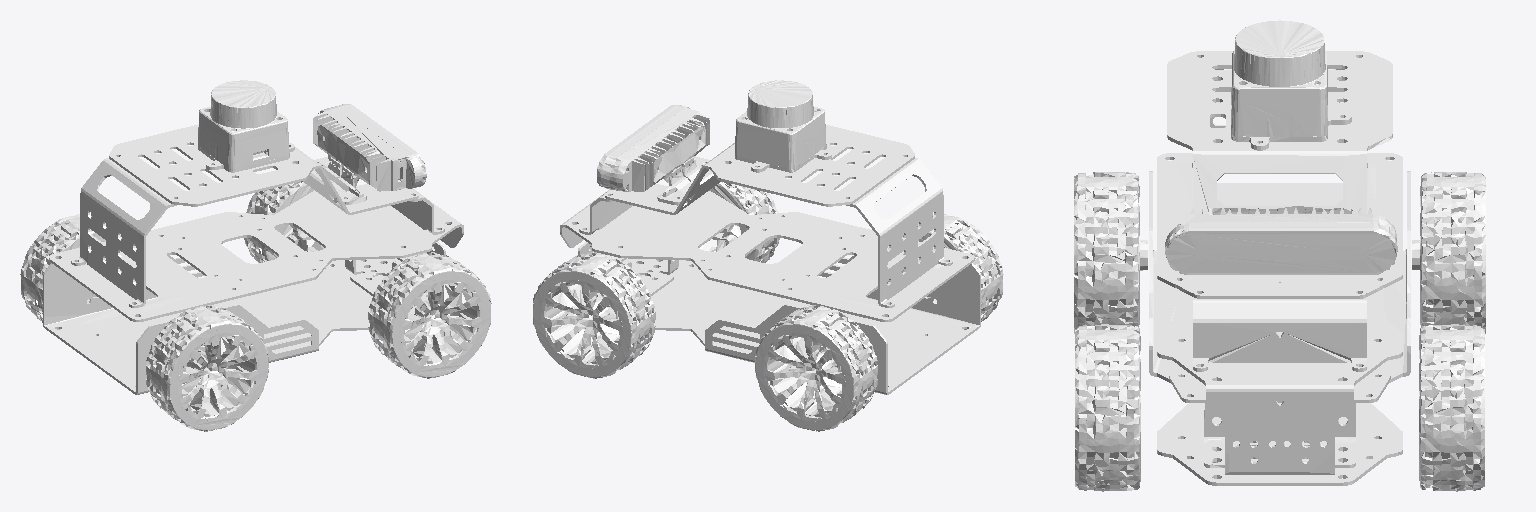
URDF robot description (mentorpi_ackermann):
<?xml version="1.0" ?>
<robot name="mentorpi_ackermann">
  <material name="black">
    <color rgba="0 0 0 1"/>
  </material>
  <link name="base_link">
    <inertial>
      <origin rpy="0 0 0" xyz="-0.00186669751054189 3.0253386351986E-05 -0.00605296088229322"/>
      <mass value="0.0961047465616957"/>
      <inertia ixx="8.55867486364231E-05" ixy="3.41346959938296E-08" ixz="1.64755227278164E-05" iyy="0.000277248181555496" iyz="-2.95282759133104E-08" izz="0.000344246448853775"/>
    </inertial>
    <visual>
      <origin rpy="0 0 0" xyz="0 0 0"/>
      <geometry>
        <mesh filename="meshes/acker/base_link.stl"/>
      </geometry>
      <material name="">
        <color rgba="1 1 1 1"/>
      </material>
    </visual>
    <collision>
      <origin rpy="0 0 0" xyz="0 0 0"/>
      <geometry>
        <mesh filename="meshes/acker/base_link.stl"/>
      </geometry>
    </collision>
  </link>
  <link name="base_footprint"/>
  <joint name="base_footprint_to_base_link" type="fixed">
    <parent link="base_footprint"/>
    <child link="base_link"/>
    <origin xyz="0 0 0.07" rpy="0 0 0"/>
  </joint>
  <link name="wheel_lf_Link">
    <inertial>
      <origin rpy="0 0 0" xyz="1.65897579444685E-06 -0.00270913022688685 -1.5546673051009E-06"/>
      <mass value="0.0252873083503169"/>
      <inertia ixx="1.00371783485335E-05" ixy="4.93900109379125E-11" ixz="7.42104604492639E-10" iyy="1.67620175120314E-05" iyz="-5.47583950457701E-11" izz="1.00370342405297E-05"/>
    </inertial>
    <visual>
      <origin rpy="0 0 0" xyz="0 0 0"/>
      <geometry>
        <mesh filename="meshes/acker/wheel_lf_Link.stl"/>
      </geometry>
      <material name="">
        <color rgba="1 1 1 1"/>
      </material>
    </visual>
    <collision>
      <origin rpy="0 0 0" xyz="0 0 0"/>
      <geometry>
        <mesh filename="meshes/acker/wheel_lf_Link.stl"/>
      </geometry>
    </collision>
  </link>
  <joint name="wheel_lf_Joint" type="continuous">
    <origin rpy="0 0 0" xyz="0.06679 0.069739 -0.0288"/>
    <parent link="base_link"/>
    <child link="wheel_lf_Link"/>
    <axis xyz="-2.2918E-05 1 1.9551E-05"/>
  </joint>
  <link name="wheel_rf_Link">
    <inertial>
      <origin rpy="0 0 0" xyz="-1.48986965733955E-06 0.0027090575018239 1.16299057125596E-06"/>
      <mass value="0.0252873548617242"/>
      <inertia ixx="1.00360241846408E-05" ixy="-5.83065201444192E-11" ixz="-8.3023958781985E-11" iyy="1.67622954977732E-05" iyz="6.31638512668579E-11" izz="1.00384960556047E-05"/>
    </inertial>
    <visual>
      <origin rpy="0 0 0" xyz="0 0 0"/>
      <geometry>
        <mesh filename="meshes/acker/wheel_rf_Link.stl"/>
      </geometry>
      <material name="">
        <color rgba="1 1 1 1"/>
      </material>
    </visual>
    <collision>
      <origin rpy="0 0 0" xyz="0 0 0"/>
      <geometry>
        <mesh filename="meshes/acker/wheel_rf_Link.stl"/>
      </geometry>
    </collision>
  </link>
  <joint name="wheel_rf_Joint" type="continuous">
    <origin rpy="0 0 0" xyz="0.066794 -0.069739 -0.028803"/>
    <parent link="base_link"/>
    <child link="wheel_rf_Link"/>
    <axis xyz="-2.2918E-05 1 1.9551E-05"/>
  </joint>
  <link name="wheel_lb_Link">
    <inertial>
      <origin rpy="0 0 0" xyz="1.62806317080544E-06 -0.00317716794378092 -1.54238045318306E-06"/>
      <mass value="0.0271078161230754"/>
      <inertia ixx="1.01056035703468E-05" ixy="4.60479373806495E-11" ixz="7.43896782806142E-10" iyy="1.67990600599721E-05" iyz="-5.763890541079E-11" izz="1.01072652738793E-05"/>
    </inertial>
    <visual>
      <origin rpy="0 0 0" xyz="0 0 0"/>
      <geometry>
        <mesh filename="meshes/acker/wheel_lb_Link.stl"/>
      </geometry>
      <material name="">
        <color rgba="1 1 1 1"/>
      </material>
    </visual>
    <collision>
      <origin rpy="0 0 0" xyz="0 0 0"/>
      <geometry>
        <mesh filename="meshes/acker/wheel_lb_Link.stl"/>
      </geometry>
    </collision>
  </link>
  <joint name="wheel_lb_Joint" type="continuous">
    <origin rpy="0 0 0" xyz="-0.070313 0.07014 -0.027793"/>
    <parent link="base_link"/>
    <child link="wheel_lb_Link"/>
    <axis xyz="-2.2787E-05 1 1.9439E-05"/>
  </joint>
  <link name="wheel_rb_Link">
    <inertial>
      <origin rpy="0 0 0" xyz="-1.50804700475154E-06 0.00317707027691583 1.18963606317302E-06"/>
      <mass value="0.0271078005024283"/>
      <inertia ixx="1.01044417409685E-05" ixy="-5.83069005452564E-11" ixz="-7.56886841840775E-11" iyy="1.67993271276785E-05" iyz="6.31638424138502E-11" izz="1.01087182681654E-05"/>
    </inertial>
    <visual>
      <origin rpy="0 0 0" xyz="0 0 0"/>
      <geometry>
        <mesh filename="meshes/acker/wheel_rb_Link.stl"/>
      </geometry>
      <material name="">
        <color rgba="1 1 1 1"/>
      </material>
    </visual>
    <collision>
      <origin rpy="0 0 0" xyz="0 0 0"/>
      <geometry>
        <mesh filename="meshes/acker/wheel_rb_Link.stl"/>
      </geometry>
          </collision>
  </link>
  <joint name="wheel_rb_Joint" type="continuous">
    <origin rpy="0 0 0" xyz="-0.07031 -0.07014 -0.027796"/>
    <parent link="base_link"/>
    <child link="wheel_rb_Link"/>
    <axis xyz="-2.2787E-05 1 1.9439E-05"/>
  </joint>
  <link name="depth_cam">
    <inertial>
      <origin rpy="0 0 0" xyz="0.0023402290651429 0.00113784597946548 -0.0102127064032341"/>
      <mass value="0.0270474748429678"/>
      <inertia ixx="1.43718505822118E-05" ixy="1.24779382573379E-07" ixz="1.29836477956744E-08" iyy="1.65912768209848E-06" iyz="2.28291478579102E-08" izz="1.45615925510082E-05"/>
    </inertial>
    <visual>
      <origin rpy="0 0 0" xyz="0 0 0"/>
      <geometry>
        <mesh filename="meshes/acker/cam_Link.stl"/>
      </geometry>
      <material name="">
        <color rgba="1 1 1 1"/>
      </material>
    </visual>
    <collision>
      <origin rpy="0 0 0" xyz="0 0 0"/>
      <geometry>
        <mesh filename="meshes/acker/cam_Link.stl"/>
      </geometry>
    </collision>
  </link>
  <joint name="cam_Joint" type="fixed">
    <origin rpy="0 0 0" xyz="0.064015 -0.00013463 0.051155"/>
    <parent link="base_link"/>
    <child link="depth_cam"/>
    <axis xyz="0 0 0"/>
  </joint>
  <link name="lidar_frame">
    <inertial>
      <origin rpy="0 0 0" xyz="8.65086433231368E-05 9.02624784523964E-05 -0.0183546134614858"/>
      <mass value="0.0405423044068563"/>
      <inertia ixx="4.98470776877503E-06" ixy="-1.54076264166869E-07" ixz="2.05182706824286E-09" iyy="5.03926730822203E-06" iyz="1.1006285118993E-08" izz="8.25645669548359E-06"/>
    </inertial>
    <visual>
      <origin rpy="0 0 0" xyz="0 0 0"/>
      <geometry>
        <mesh filename="meshes/acker/lidar_Link.stl"/>
      </geometry>
      <material name="">
        <color rgba="1 1 1 1"/>
      </material>
    </visual>
    <collision>
      <origin rpy="0 0 0" xyz="0 0 0"/>
      <geometry>
        <mesh filename="meshes/acker/lidar_Link.stl"/>
      </geometry>
    </collision>
  </link>
  <joint name="lidar_Joint" type="fixed">
    <origin rpy="0 0 0" xyz="-0.0096019 -8.533E-05 0.092501"/>
    <parent link="base_link"/>
    <child link="lidar_frame"/>
    <axis xyz="0 0 0"/>
  </joint>
  <link name="imu_link"/>
  <joint name="imu_joint" type="fixed">
    <origin xyz="0 0 0.111591" rpy="0 0 -1.570796"/>
    <parent link="base_link"/>
    <child link="imu_link"/>
  </joint>
</robot>

--- Render facts (derived) ---
3 views of the same robot in one strip: view 1: azimuth 30°, elevation 25°; view 2: azimuth 150°, elevation 25°; view 3: azimuth 270°, elevation 25° (orthographic).
Model mentorpi_ackermann with 9 links and 8 joints (4 continuous, 4 fixed), rooted at base_footprint, posed all joints at 0.
Visible links, largest first — view 1: base_link, wheel_rb_Link, wheel_rf_Link, depth_cam, lidar_frame, wheel_lb_Link, wheel_lf_Link; view 2: base_link, wheel_lb_Link, wheel_lf_Link, depth_cam, lidar_frame, wheel_rb_Link, wheel_rf_Link; view 3: base_link, depth_cam, lidar_frame, wheel_rf_Link, wheel_lf_Link, wheel_rb_Link, wheel_lb_Link.
Link boxes in pixels (x1,y1,x2,y2): base_link: (43,124,463,394); wheel_rb_Link: (146,305,268,431); wheel_rf_Link: (368,252,491,378); depth_cam: (311,104,426,205); lidar_frame: (198,80,294,172); wheel_lb_Link: (20,214,120,329); wheel_lf_Link: (244,181,324,262); base_link: (560,125,980,394); wheel_lb_Link: (755,305,877,431); wheel_lf_Link: (533,252,655,378); depth_cam: (597,105,712,205); lidar_frame: (735,80,831,172); wheel_rb_Link: (903,214,1003,329); wheel_rf_Link: (699,181,779,262); base_link: (1149,51,1410,485); depth_cam: (1165,206,1397,274); lidar_frame: (1231,20,1351,150); wheel_rf_Link: (1075,324,1140,491); wheel_lf_Link: (1419,324,1484,491); wheel_rb_Link: (1074,172,1147,333); wheel_lb_Link: (1412,172,1485,333).
Size in the robot's own frame: 0.2133 by 0.1589 by 0.1529 metres.
7 mesh visuals loaded from 7 distinct referenced files (7 binary STL).
